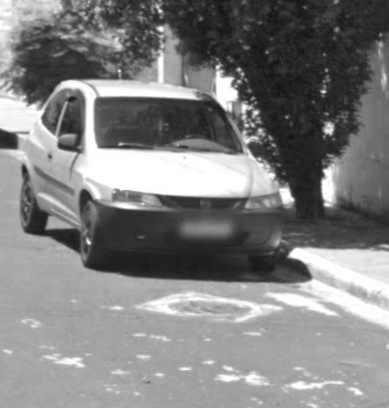car: (17, 52, 287, 284)
